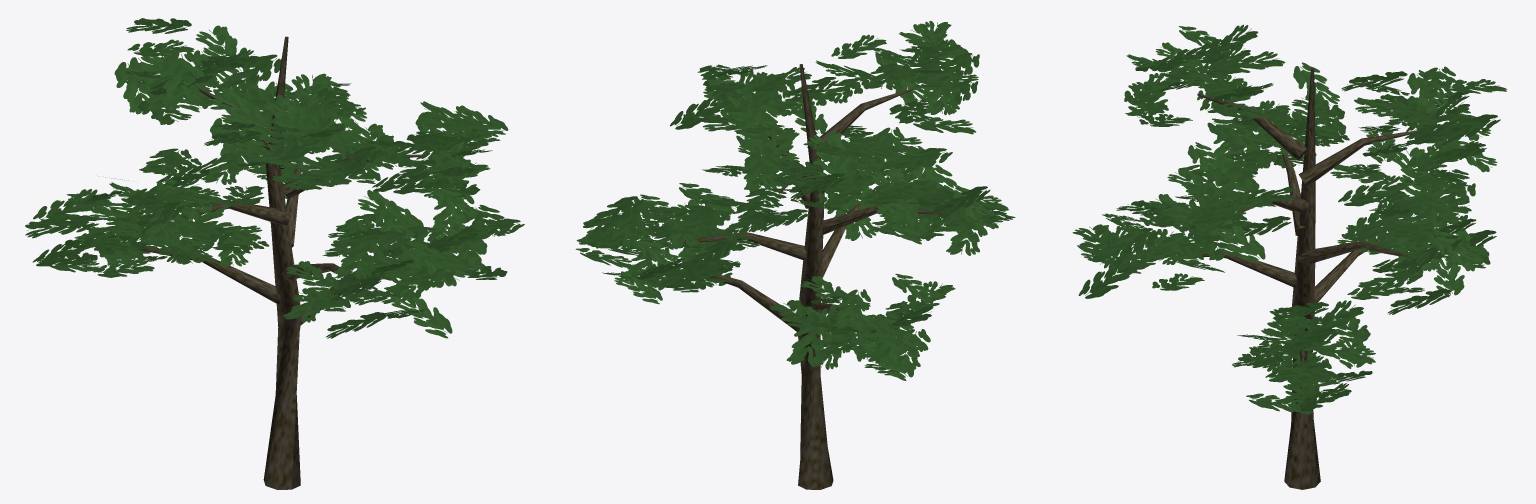
File: tree_A_lod0.glb
3 renders of one model, left to right at view 1: azimuth 30°, elevation 25°; view 2: azimuth 150°, elevation 25°; view 3: azimuth 270°, elevation 25°, orthographic. The views are drawn at different scales.
Parts seen in each view (by area): view 1: tree_A_L0__leaf, tree_A_L0__bark; view 2: tree_A_L0__leaf, tree_A_L0__bark; view 3: tree_A_L0__leaf, tree_A_L0__bark.
Part boxes in pixels (x1,y1,x2,y2): tree_A_L0__leaf: [25, 18, 524, 338]; tree_A_L0__bark: [136, 36, 424, 489]; tree_A_L0__leaf: [575, 20, 1015, 380]; tree_A_L0__bark: [668, 64, 941, 489]; tree_A_L0__leaf: [1072, 24, 1507, 414]; tree_A_L0__bark: [1154, 67, 1416, 489].
Size of the model in its own units: 7.17 by 6.82 by 6.85.
2 materials, 2 textured.
